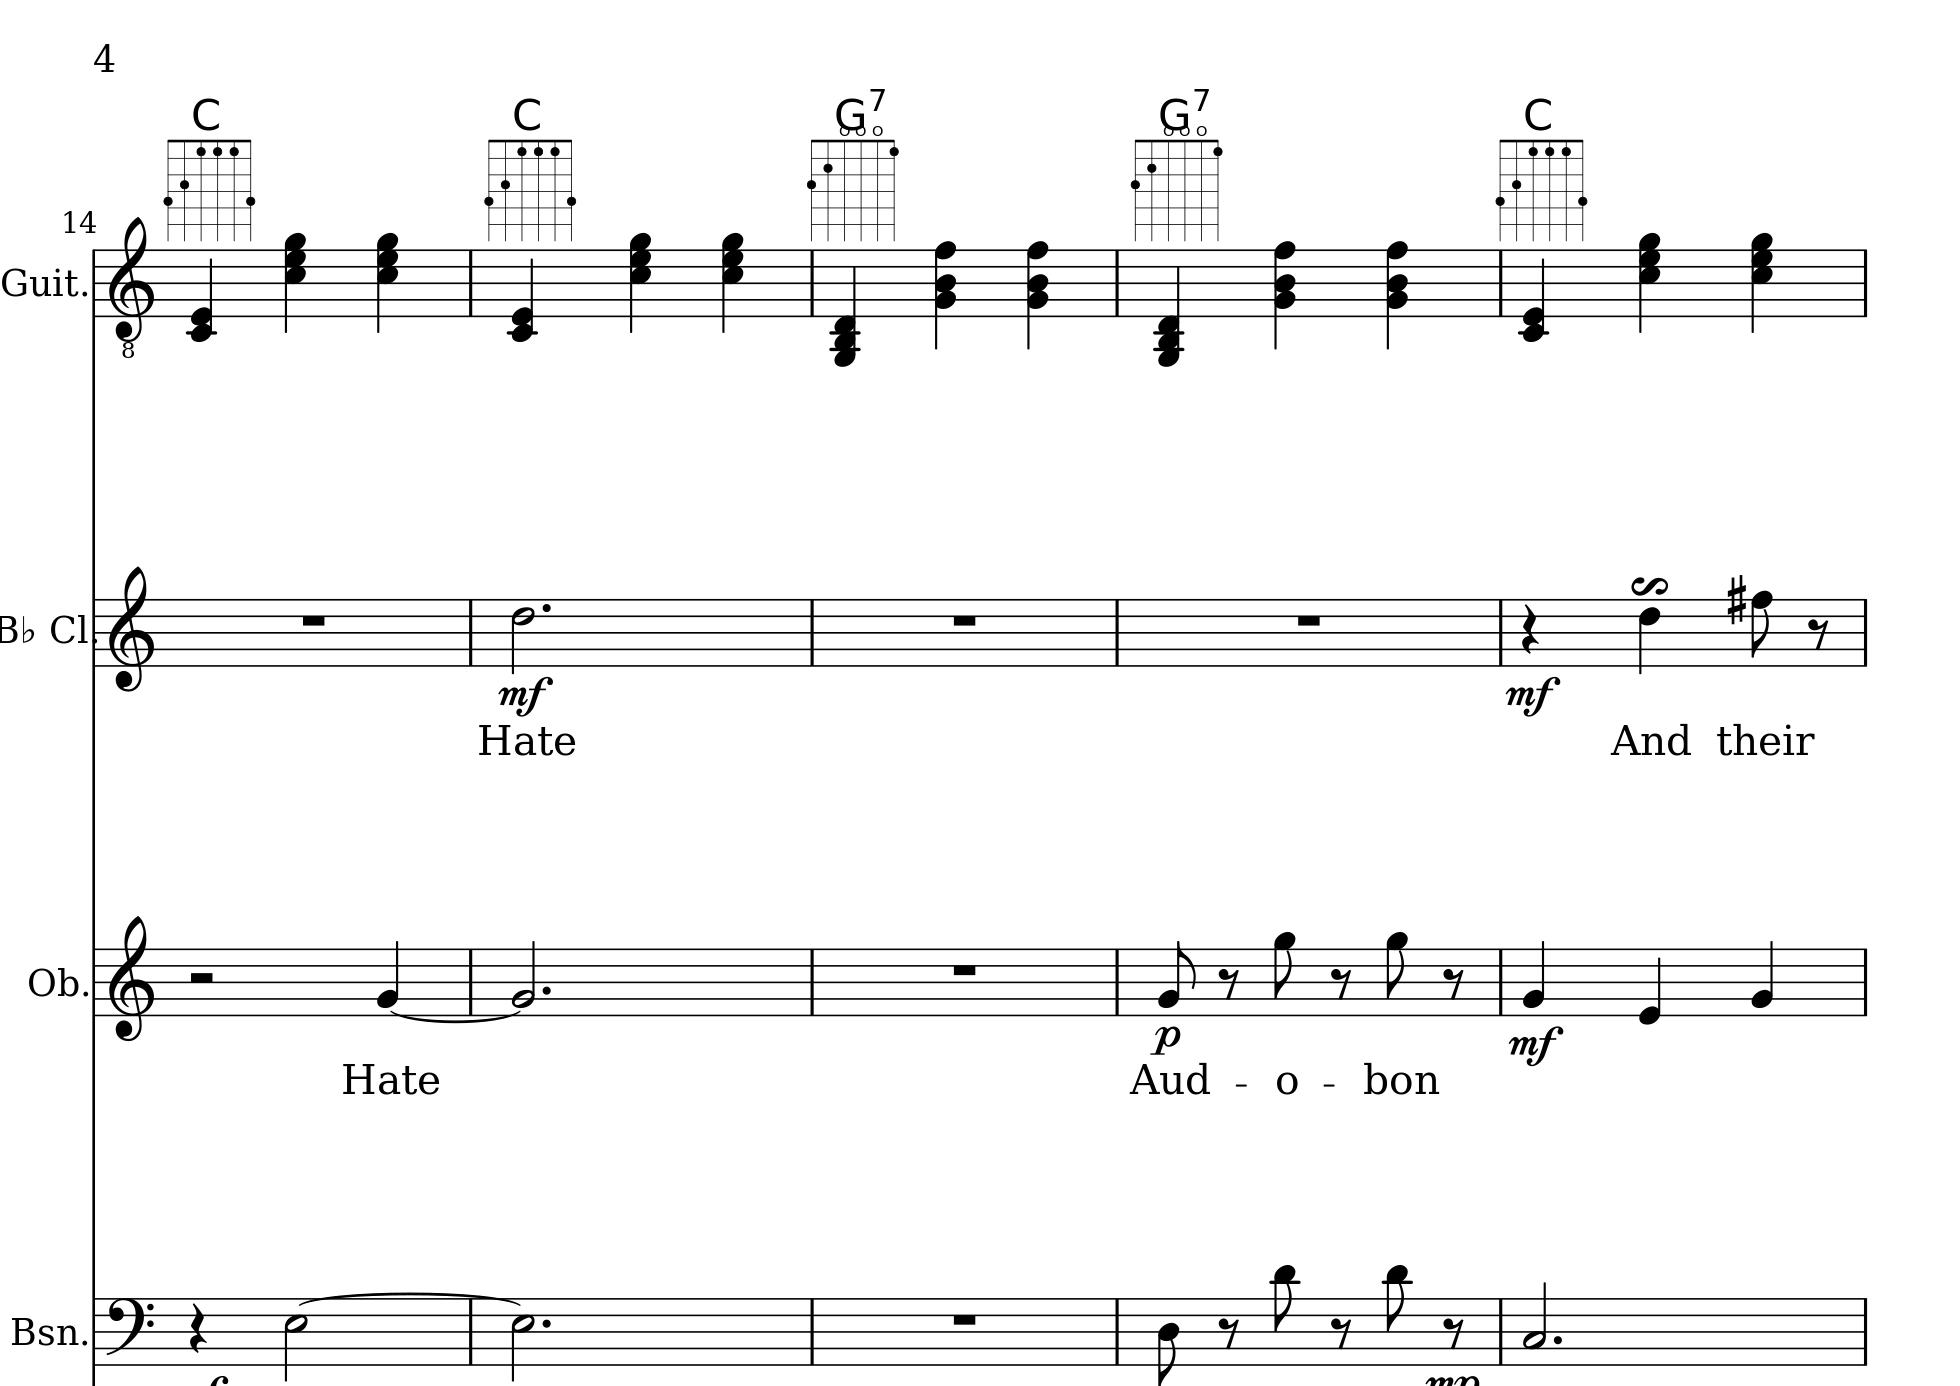2_2: (510, 937, 537, 1018)
2_3: (1522, 1279, 1548, 1366)
2_5: (508, 1294, 535, 1384), (282, 1294, 309, 1381)
2_6: (510, 595, 538, 675)
4: (93, 40, 115, 73)
4_-2_0: (1516, 247, 1552, 343), (184, 247, 219, 343), (505, 247, 540, 343)
4_0: (1638, 946, 1663, 1026)
4_2: (1521, 937, 1548, 1018), (1750, 937, 1777, 1018), (376, 937, 400, 1018)
4_6: (1638, 595, 1663, 675)
4_th: (1152, 244, 1186, 370), (828, 246, 862, 369), (930, 240, 958, 349), (1023, 238, 1050, 349), (1270, 240, 1297, 349), (1383, 240, 1410, 349), (1635, 228, 1662, 333), (280, 229, 307, 334), (373, 229, 400, 333), (625, 229, 652, 333), (718, 229, 744, 333), (1747, 229, 1773, 331)
7: (868, 84, 886, 112), (1194, 84, 1210, 112)
8_11: (1270, 1263, 1302, 1368), (1383, 1263, 1413, 1368)
8_2: (1158, 937, 1195, 1015)
8_4: (1155, 1294, 1183, 1386)
8_8: (1749, 588, 1776, 669)
8_9: (1272, 930, 1299, 1017), (1384, 930, 1410, 1017)
Bsn: (10, 1312, 79, 1351)
Cl: (48, 609, 87, 646)
Fclef: (103, 1296, 157, 1368)
Fretboard: (1126, 130, 1228, 243), (799, 132, 903, 241), (1491, 136, 1591, 243), (478, 136, 579, 241), (159, 135, 256, 241)
Gclef: (106, 564, 157, 694), (106, 913, 156, 1042)
Guit: (1, 262, 81, 301)
Inverted_turn: (1629, 574, 1669, 597)
Lower_Gclef: (106, 216, 156, 358)
Ob: (28, 963, 79, 1000)
Rests1: (948, 1309, 981, 1327), (298, 610, 330, 628), (949, 610, 981, 628), (1293, 610, 1324, 628), (949, 961, 981, 979)
Rests2: (184, 967, 217, 985)
Rests4: (187, 1300, 208, 1357), (1521, 601, 1539, 655)
Rests8: (1806, 615, 1833, 651), (1216, 964, 1242, 1000), (1441, 966, 1467, 1000), (1441, 1315, 1467, 1350), (1329, 966, 1353, 1000), (1218, 1315, 1240, 1348), (1330, 1315, 1353, 1348)
Sharp: (1725, 571, 1747, 625)
Single_barline: (1107, 250, 1128, 316), (460, 1299, 480, 1363), (1108, 948, 1126, 1015), (1857, 598, 1875, 664), (1857, 1297, 1875, 1363), (802, 1297, 820, 1363), (802, 250, 820, 315), (1857, 249, 1873, 316), (804, 598, 820, 666), (87, 948, 103, 1015), (804, 948, 820, 1015), (1857, 948, 1873, 1015), (462, 598, 478, 664), (1110, 598, 1126, 664), (462, 949, 478, 1015), (1492, 1297, 1509, 1363), (1492, 949, 1509, 1014), (463, 250, 478, 316), (1494, 250, 1509, 316), (1494, 598, 1509, 664), (1110, 1297, 1125, 1363), (88, 598, 102, 667), (87, 1297, 100, 1365), (88, 247, 100, 316)
Slur: (391, 1009, 517, 1023)
dot: (538, 982, 553, 997), (540, 1315, 553, 1332), (540, 600, 553, 615), (1551, 1333, 1566, 1345)
mf: (1507, 1024, 1564, 1066), (1506, 673, 1560, 717), (498, 673, 552, 715)
p: (1149, 1024, 1182, 1056)
